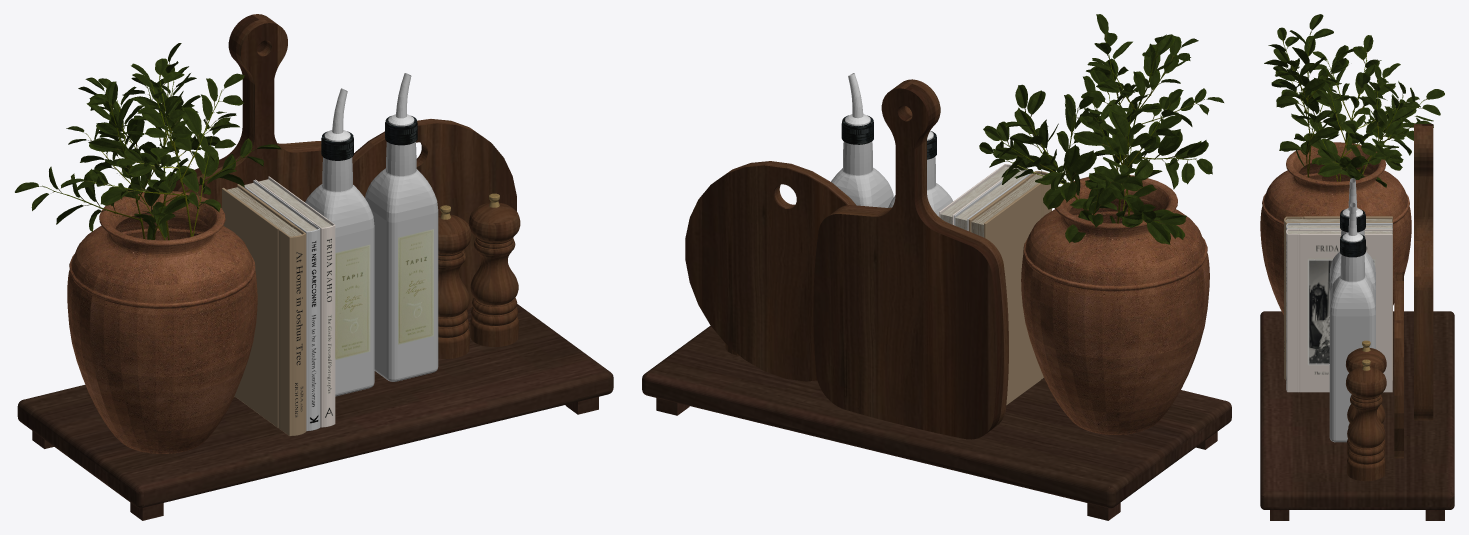
The model's file is kitchen_composition_decor_2.glb.
3 renders of one model, left to right at view 1: azimuth 30°, elevation 25°; view 2: azimuth 150°, elevation 25°; view 3: azimuth 270°, elevation 25°, orthographic. The views are drawn at different scales.
Parts seen in each view (by area): view 1: mesh_55_ROOT__Component_145678__Component_132541__Component_, mesh_58_ROOT__Component_145678__Component_57846_Layer0_81_61, mesh_0_ROOT__Component_145678__book_4_k_Layer0_180_163_137_d, mesh_6_ROOT__Component_145678__olive_oil#2__Component_58380_, mesh_12_ROOT__Component_145678__Component_56305_Layer0_99_71, mesh_10_ROOT__Component_145678__Component_57448_Layer0_99_71, mesh_47_ROOT__Component_145678__Component_132541__Plane299__, mesh_23_ROOT__Component_145678__moulin_a_poivre_et_sel__Comp, mesh_19_ROOT__Component_145678__olive+oil__olive_oil#1__Comp, mesh_43_ROOT__Component_145678__Component_132541__Plane299__, mesh_27_ROOT__Component_145678__moulin_a_poivre_et_sel__Comp, mesh_20_ROOT__Component_145678__olive+oil__olive_oil#1__Comp (+10 smaller); view 2: mesh_12_ROOT__Component_145678__Component_56305_Layer0_99_71, mesh_55_ROOT__Component_145678__Component_132541__Component_, mesh_58_ROOT__Component_145678__Component_57846_Layer0_81_61, mesh_10_ROOT__Component_145678__Component_57448_Layer0_99_71, mesh_51_ROOT__Component_145678__Component_132541__Plane299__, mesh_43_ROOT__Component_145678__Component_132541__Plane299__, mesh_47_ROOT__Component_145678__Component_132541__Plane299__, mesh_0_ROOT__Component_145678__book_4_k_Layer0_180_163_137_d, mesh_6_ROOT__Component_145678__olive_oil#2__Component_58380_, mesh_1_ROOT__Component_145678__book_4_k_Layer0_180_172_156_d, mesh_19_ROOT__Component_145678__olive+oil__olive_oil#1__Comp, mesh_42_ROOT__Component_145678__book_2_k155797_Layer0_202_19 (+2 smaller); view 3: mesh_58_ROOT__Component_145678__Component_57846_Layer0_81_61, mesh_39_ROOT__Component_145678__book_2_k131465_Layer0_221_21, mesh_55_ROOT__Component_145678__Component_132541__Component_, mesh_12_ROOT__Component_145678__Component_56305_Layer0_99_71, mesh_6_ROOT__Component_145678__olive_oil#2__Component_58380_, mesh_47_ROOT__Component_145678__Component_132541__Plane299__, mesh_51_ROOT__Component_145678__Component_132541__Plane299__, mesh_23_ROOT__Component_145678__moulin_a_poivre_et_sel__Comp, mesh_43_ROOT__Component_145678__Component_132541__Plane299__, mesh_10_ROOT__Component_145678__Component_57448_Layer0_99_71, mesh_27_ROOT__Component_145678__moulin_a_poivre_et_sel__Comp, mesh_0_ROOT__Component_145678__book_4_k_Layer0_180_163_137_d (+12 smaller).
Part boxes in pixels (box(x1,y1,x2,y2)): mesh_55_ROOT__Component_145678__Component_132541__Component_: box(67, 191, 257, 453); mesh_58_ROOT__Component_145678__Component_57846_Layer0_81_61: box(17, 304, 613, 508); mesh_0_ROOT__Component_145678__book_4_k_Layer0_180_163_137_d: box(222, 184, 306, 436); mesh_6_ROOT__Component_145678__olive_oil#2__Component_58380_: box(365, 142, 438, 381); mesh_12_ROOT__Component_145678__Component_56305_Layer0_99_71: box(173, 14, 322, 207); mesh_10_ROOT__Component_145678__Component_57448_Layer0_99_71: box(352, 119, 516, 310); mesh_47_ROOT__Component_145678__Component_132541__Plane299__: box(61, 58, 244, 225); mesh_23_ROOT__Component_145678__moulin_a_poivre_et_sel__Comp: box(469, 202, 520, 346); mesh_19_ROOT__Component_145678__olive+oil__olive_oil#1__Comp: box(305, 157, 374, 396); mesh_43_ROOT__Component_145678__Component_132541__Plane299__: box(15, 77, 200, 239); mesh_27_ROOT__Component_145678__moulin_a_poivre_et_sel__Comp: box(438, 214, 471, 358); mesh_20_ROOT__Component_145678__olive+oil__olive_oil#1__Comp: box(335, 244, 370, 359); mesh_12_ROOT__Component_145678__Component_56305_Layer0_99_71: box(813, 79, 1008, 439); mesh_55_ROOT__Component_145678__Component_132541__Component_: box(1021, 175, 1209, 434); mesh_58_ROOT__Component_145678__Component_57846_Layer0_81_61: box(642, 326, 1231, 508); mesh_10_ROOT__Component_145678__Component_57448_Layer0_99_71: box(685, 161, 855, 381); mesh_51_ROOT__Component_145678__Component_132541__Plane299__: box(979, 84, 1122, 242); mesh_43_ROOT__Component_145678__Component_132541__Plane299__: box(1073, 69, 1186, 244); mesh_47_ROOT__Component_145678__Component_132541__Plane299__: box(1083, 14, 1223, 189); mesh_0_ROOT__Component_145678__book_4_k_Layer0_180_163_137_d: box(968, 171, 1051, 405); mesh_6_ROOT__Component_145678__olive_oil#2__Component_58380_: box(831, 141, 893, 207); mesh_1_ROOT__Component_145678__book_4_k_Layer0_180_172_156_d: box(971, 174, 1044, 237); mesh_19_ROOT__Component_145678__olive+oil__olive_oil#1__Comp: box(888, 157, 953, 216); mesh_42_ROOT__Component_145678__book_2_k155797_Layer0_202_19: box(955, 170, 1027, 230); mesh_58_ROOT__Component_145678__Component_57846_Layer0_81_61: box(1260, 311, 1454, 509); mesh_39_ROOT__Component_145678__book_2_k131465_Layer0_221_21: box(1286, 229, 1392, 392); mesh_55_ROOT__Component_145678__Component_132541__Component_: box(1260, 142, 1411, 314); mesh_12_ROOT__Component_145678__Component_56305_Layer0_99_71: box(1414, 124, 1433, 420); mesh_6_ROOT__Component_145678__olive_oil#2__Component_58380_: box(1329, 254, 1375, 442); mesh_47_ROOT__Component_145678__Component_132541__Plane299__: box(1264, 14, 1354, 170); mesh_51_ROOT__Component_145678__Component_132541__Plane299__: box(1312, 65, 1444, 187); mesh_23_ROOT__Component_145678__moulin_a_poivre_et_sel__Comp: box(1346, 366, 1386, 481); mesh_43_ROOT__Component_145678__Component_132541__Plane299__: box(1304, 35, 1419, 176); mesh_10_ROOT__Component_145678__Component_57448_Layer0_99_71: box(1394, 272, 1403, 458); mesh_27_ROOT__Component_145678__moulin_a_poivre_et_sel__Comp: box(1346, 348, 1386, 456); mesh_0_ROOT__Component_145678__book_4_k_Layer0_180_163_137_d: box(1284, 216, 1392, 380).
Bounding box in the file's own units: 482 × 384 × 200.
Materials: 26 (15 with a texture image).
